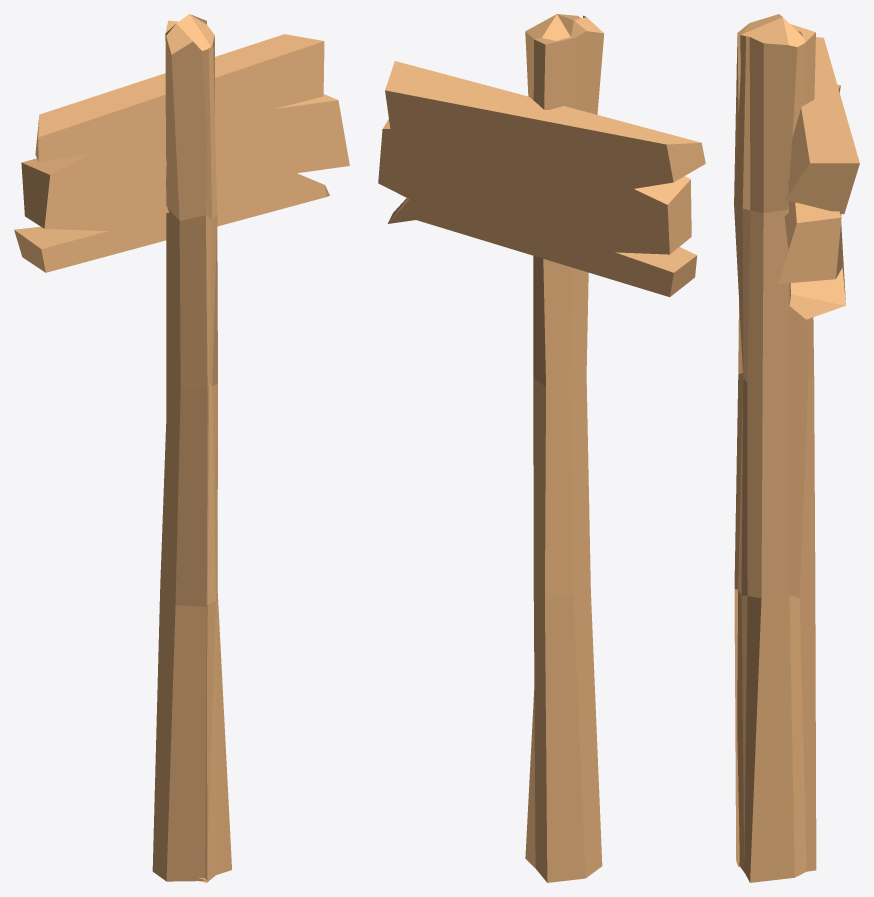
File: cc_sign1.fbx
3 views of the same model, side by side, from view 1: azimuth 30°, elevation 25°; view 2: azimuth 150°, elevation 25°; view 3: azimuth 270°, elevation 25° (orthographic).
Parts seen in each view (by area): view 1: Cube; view 2: Cube; view 3: Cube.
Part boxes in pixels (box(x1,y1,x2,y2)): Cube: box(14, 14, 349, 882); Cube: box(378, 14, 705, 882); Cube: box(734, 14, 859, 882).
Size of the model in its own units: 420 by 1115 by 148.
